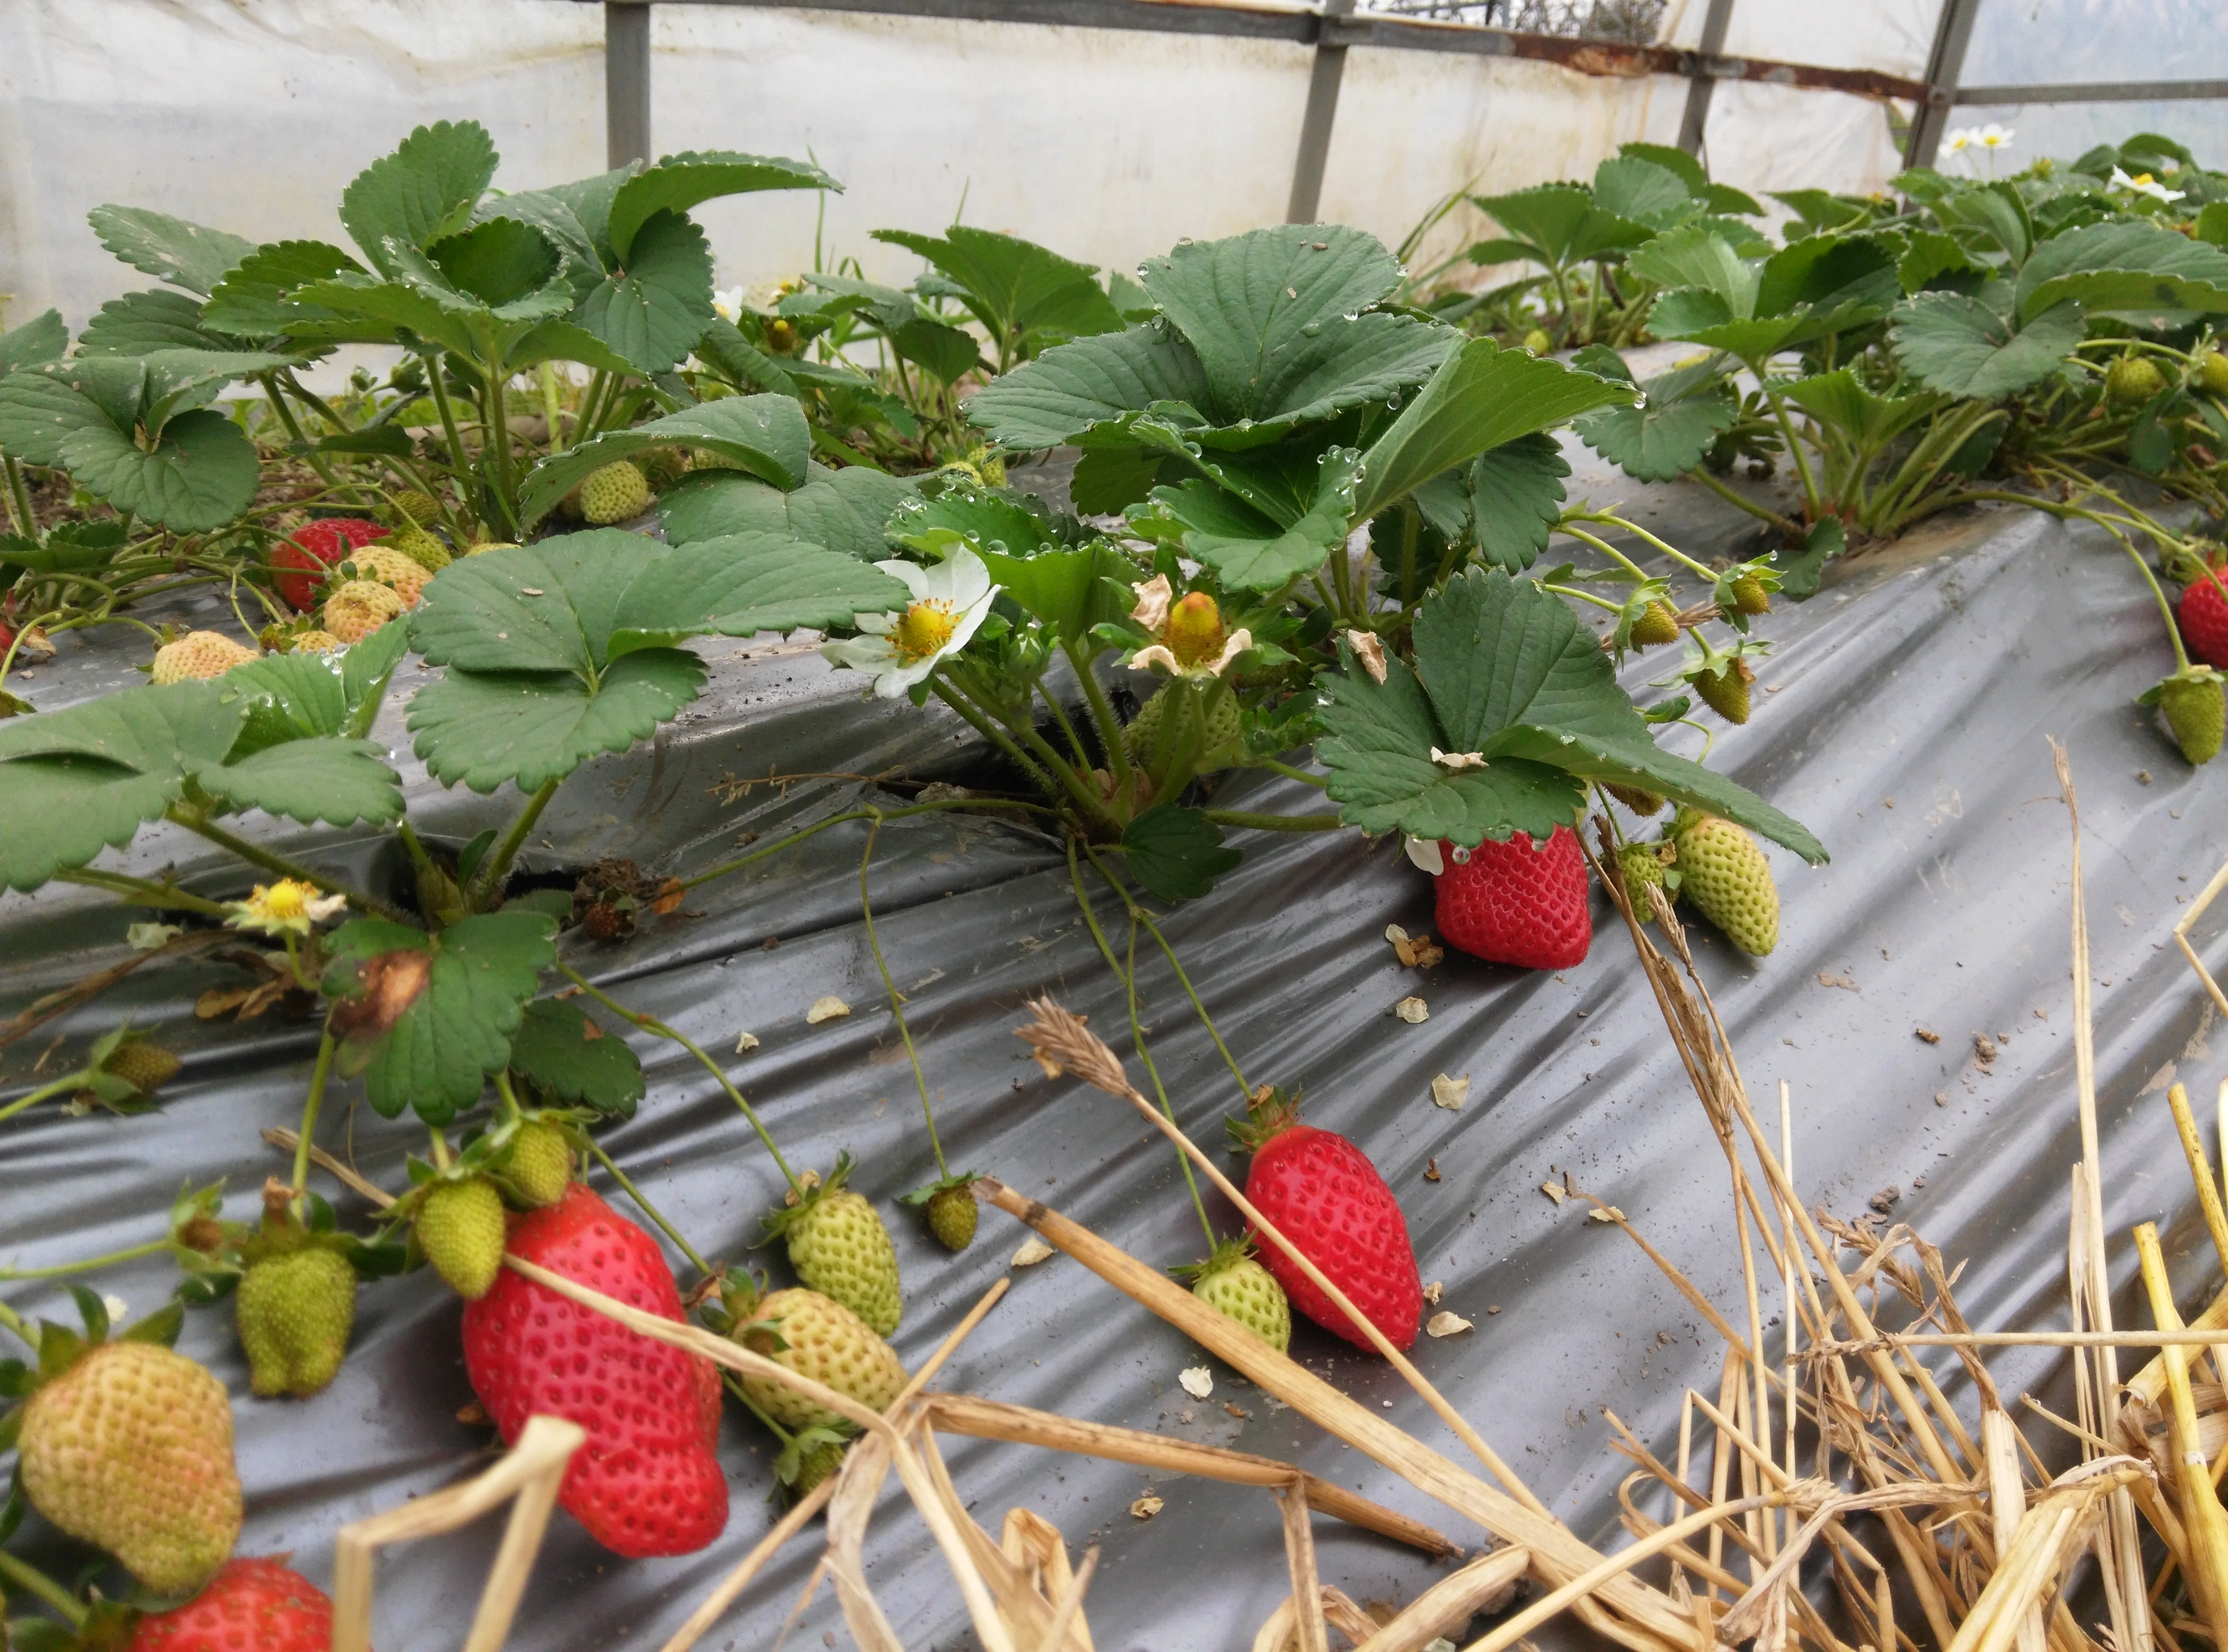StrawberryCone: (1425, 805, 1602, 980)
StrawberryFusiform: (1218, 1111, 1440, 1360)
StrawberryIrremovable: (16, 1334, 246, 1583), (720, 1284, 923, 1449), (231, 1242, 363, 1395), (1671, 803, 1784, 977), (772, 1192, 906, 1338), (1111, 666, 1263, 790), (1180, 1249, 1300, 1390), (399, 1182, 510, 1303), (147, 619, 276, 708), (90, 1026, 189, 1121), (311, 567, 429, 642), (493, 1116, 580, 1216), (326, 538, 442, 613), (2146, 665, 2221, 767), (779, 1418, 861, 1510), (574, 448, 654, 533), (1610, 843, 1680, 930), (1688, 649, 1756, 731), (161, 1197, 229, 1274), (935, 432, 1015, 496), (927, 1177, 982, 1258), (2100, 347, 2166, 411), (1617, 588, 1678, 658), (286, 618, 351, 673), (401, 526, 456, 571), (1718, 573, 1768, 614), (1518, 321, 1565, 361)
StrawberryOther: (104, 1543, 357, 1650), (257, 507, 403, 604)
StrawberryRemovable: (460, 1187, 739, 1562), (1225, 1118, 1435, 1359), (1416, 809, 1596, 975), (115, 1539, 347, 1650), (262, 512, 397, 602)
StrawberryWedge: (455, 1178, 750, 1570)
